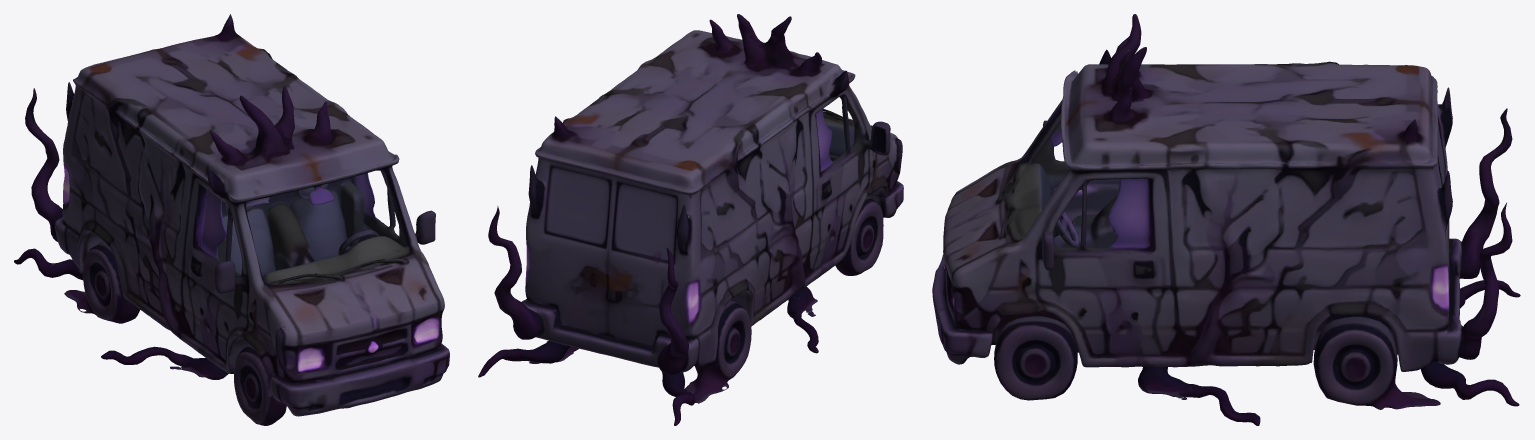
The model's file is SM_Vehicle_StylizedVan_01.fbx.
3 renders of one model, left to right at view 1: azimuth 30°, elevation 25°; view 2: azimuth 150°, elevation 25°; view 3: azimuth 270°, elevation 25°, orthographic. The views are drawn at different scales.
Visible parts, largest first — view 1: SM_Vehicle_StylizedVan_01; view 2: SM_Vehicle_StylizedVan_01; view 3: SM_Vehicle_StylizedVan_01.
Boxes of the visible parts, box(x1,y1,x2,y2) form: SM_Vehicle_StylizedVan_01: box(14, 14, 449, 425); SM_Vehicle_StylizedVan_01: box(478, 14, 903, 425); SM_Vehicle_StylizedVan_01: box(932, 14, 1520, 425).
Bounding box in the file's own units: 0.5702 × 0.5981 × 0.9943.
1 material, 1 textured.
